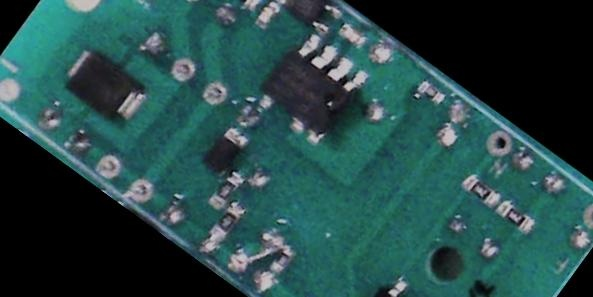chip-capacitor: (335, 18, 369, 49), (251, 0, 281, 29)
chip-resistor: (457, 169, 503, 210), (495, 197, 538, 235), (208, 169, 243, 209), (210, 204, 241, 238), (413, 76, 447, 106), (268, 243, 294, 272), (218, 0, 261, 10)
diode: (58, 39, 153, 127), (199, 122, 249, 177)
ic: (249, 24, 372, 149), (335, 268, 448, 297), (268, 0, 345, 38)
